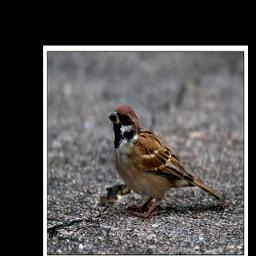Sparrow: (105, 101, 227, 221)
